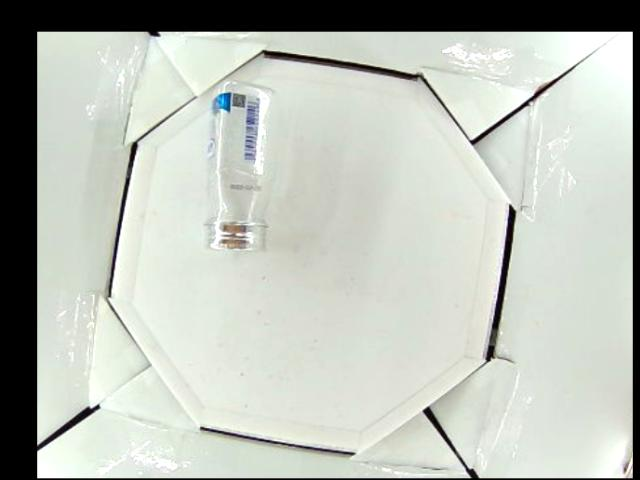Bottle: (203, 82, 275, 254)
